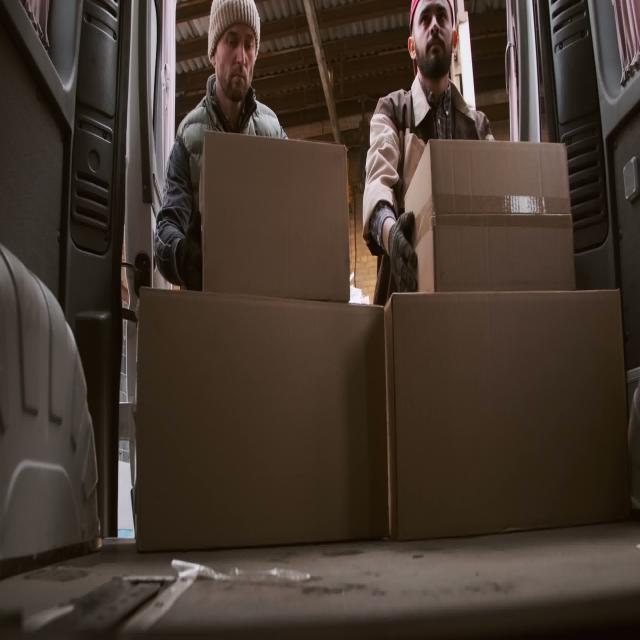counting-the-number-of-boxes: (136, 286, 389, 559), (384, 291, 632, 546), (403, 138, 576, 293), (198, 129, 350, 299)
